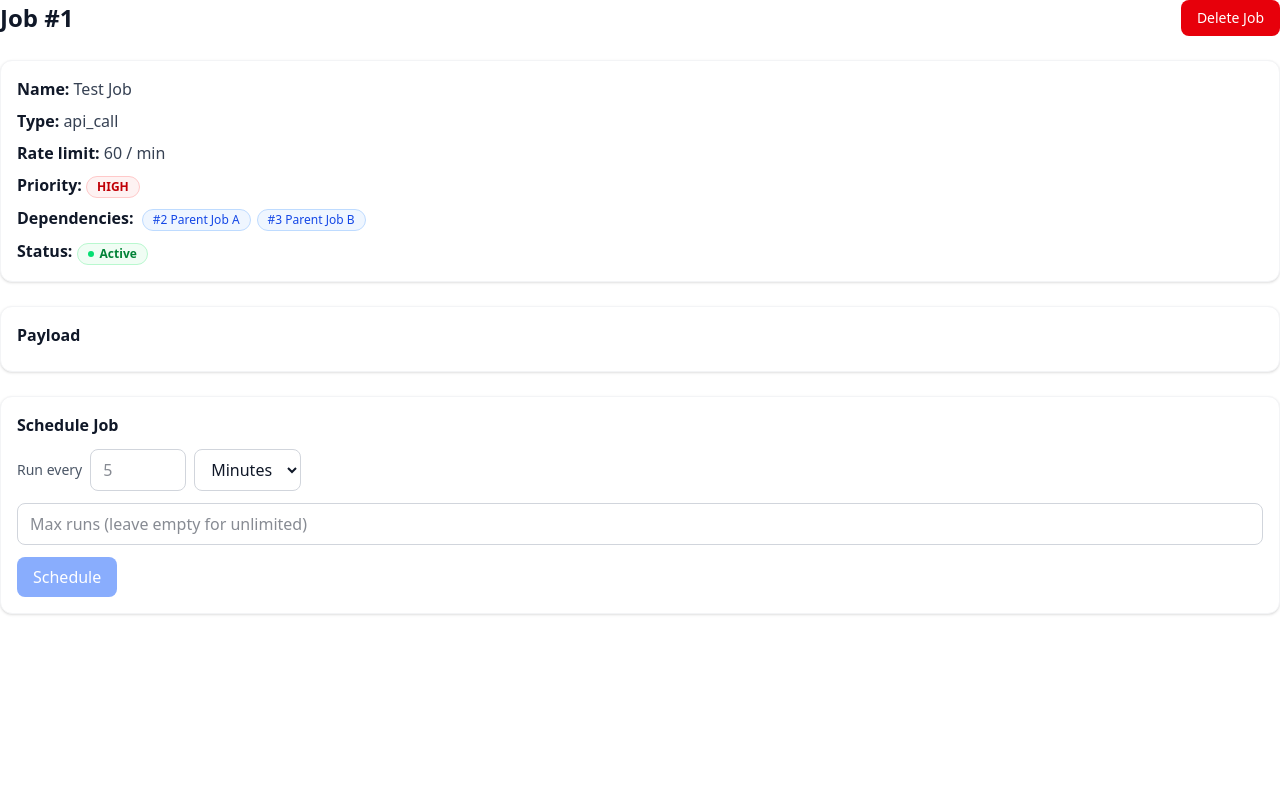
Test: JobDetail Page › opens delete dialog on delete click
The width and height of the screenshot is (1280, 800).
Click the button "Delete Job" at (1230, 18), box top-left (1181, 0), bottom-right (1279, 36)
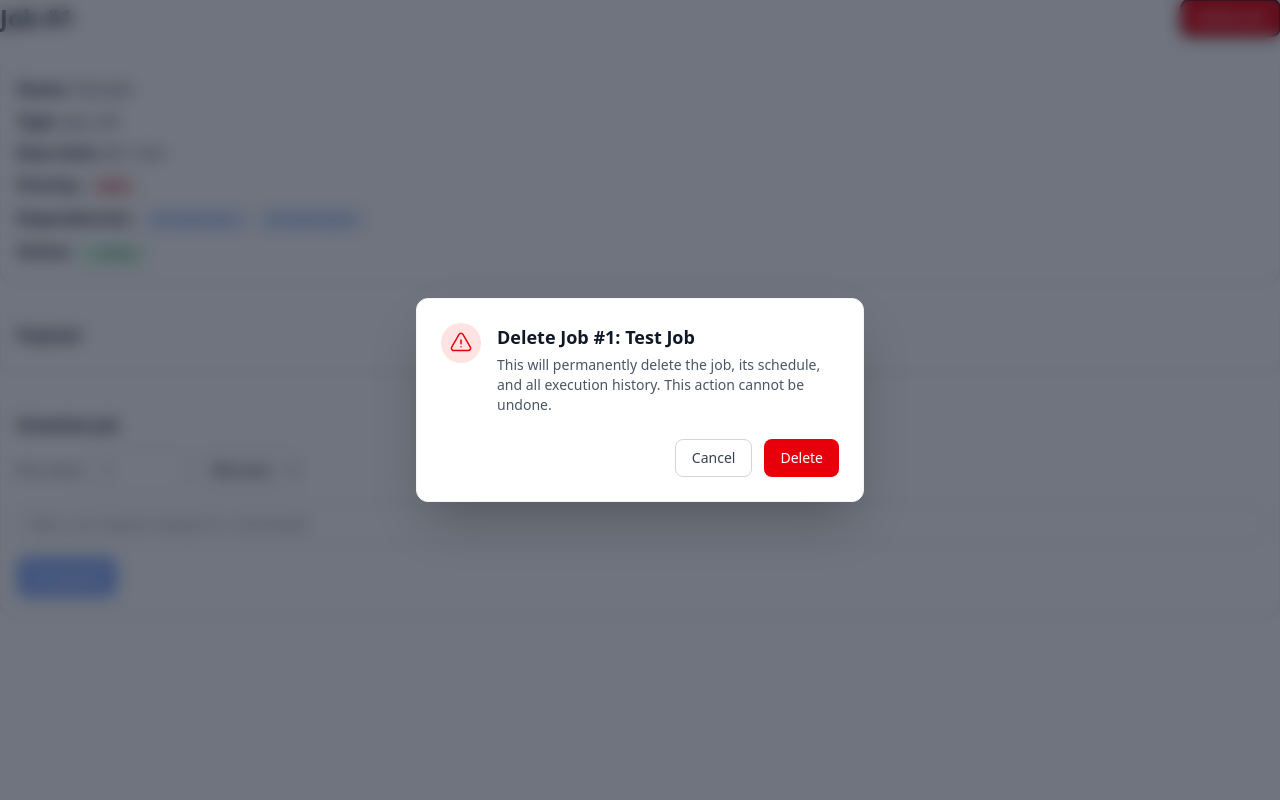
expect the heading "Delete Job #1: Test Job" is shown: met, box top-left (497, 325), bottom-right (695, 349)
expect the text "permanently delete" is shown: met, box top-left (497, 355), bottom-right (820, 414)
